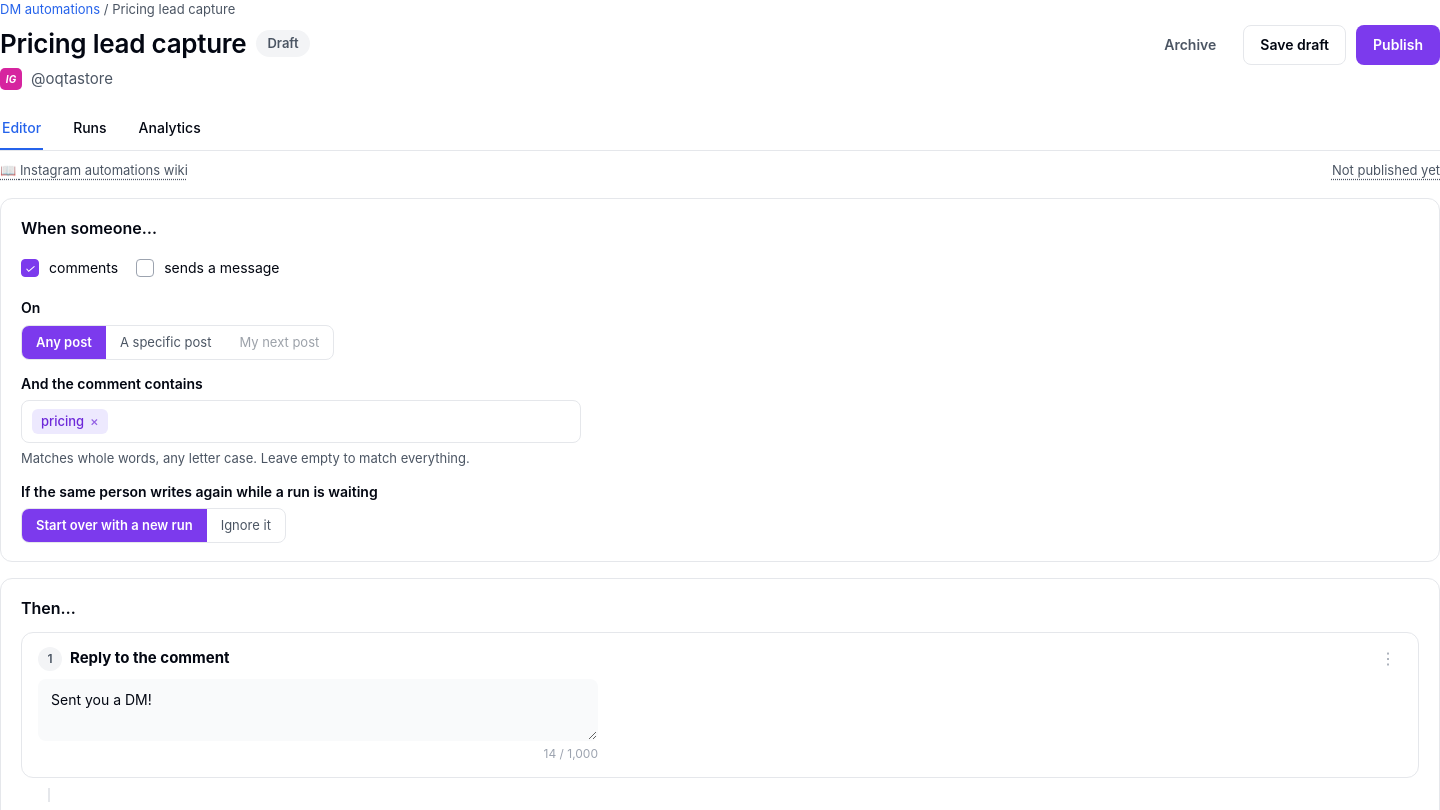
Test case: editor page › sends nothing when archiving is cancelled
This screenshot has width=1440, height=810.
Expected: the text "Not published yet" is shown, x1=1332 y1=161 x2=1439 y2=180
Click the button "Archive" at point(1190, 45), box x1=1147 y1=25 x2=1233 y2=65
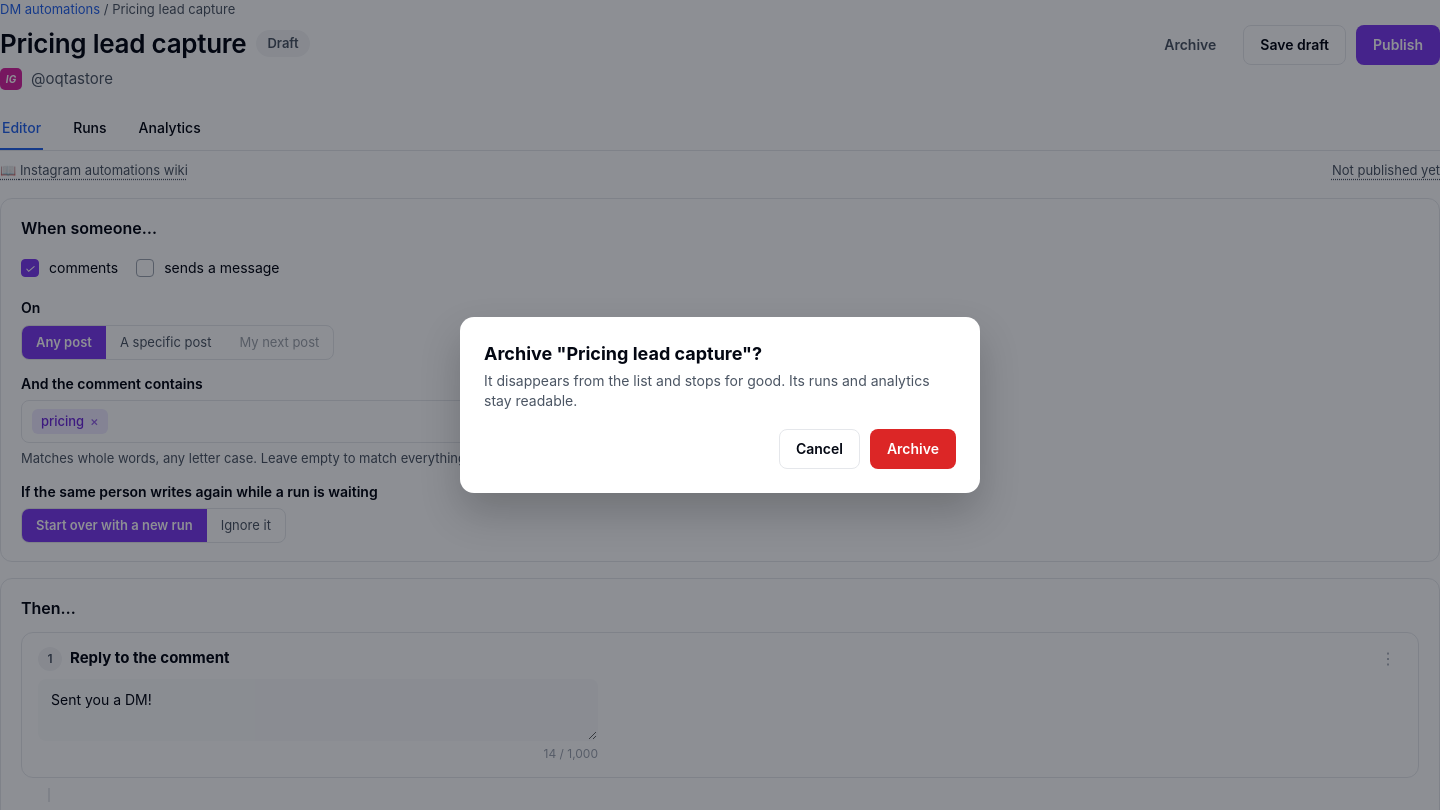
Click the button "Cancel" at point(819, 449), box x1=779 y1=429 x2=860 y2=470
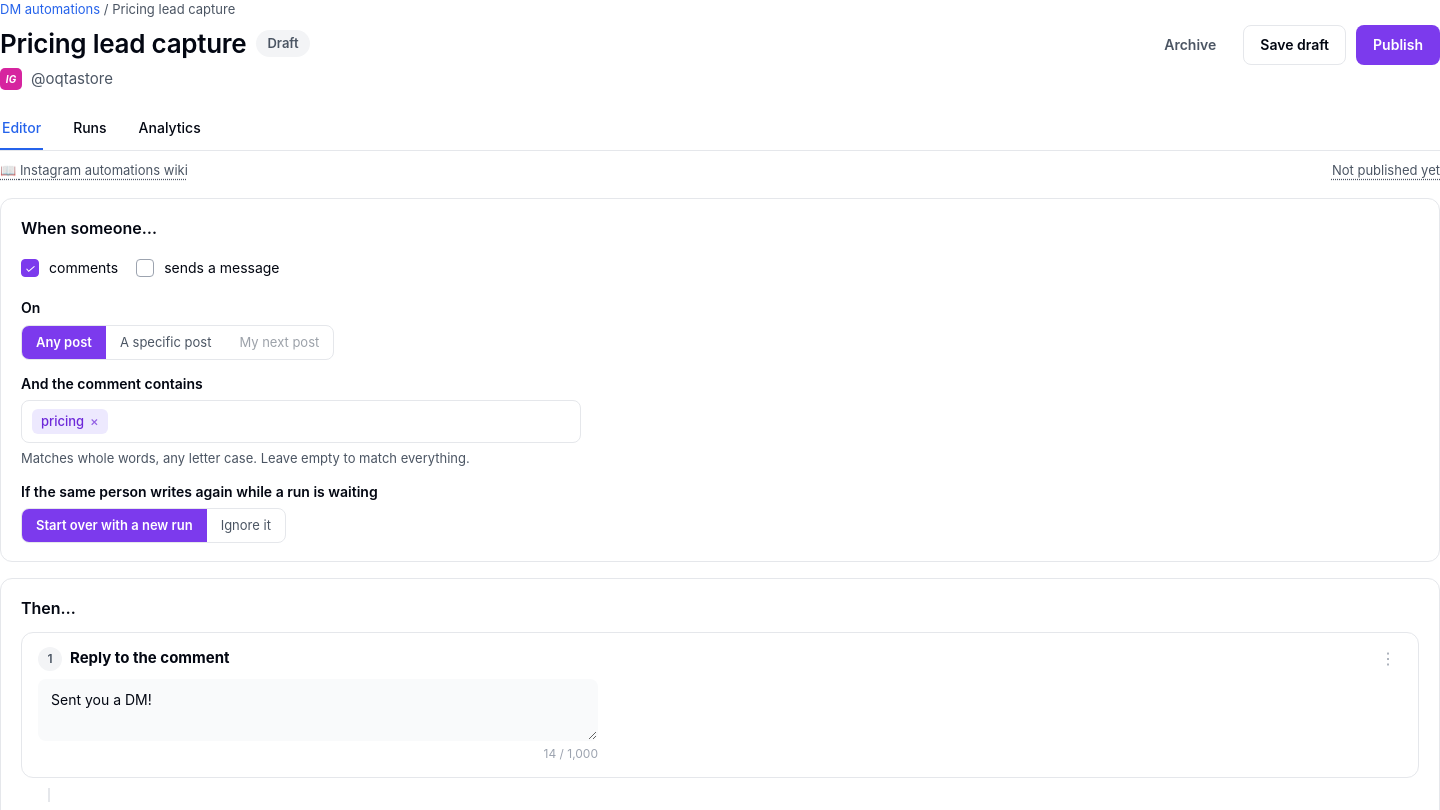
Expected: the dialog is gone
